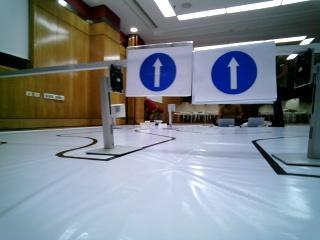straight: (196, 51, 278, 100), (125, 47, 188, 94)
